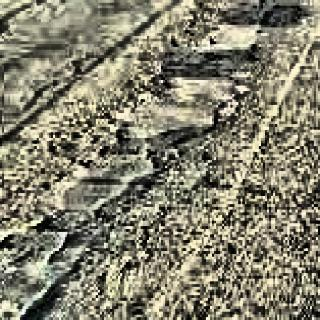pothole: (0, 171, 91, 320), (67, 121, 134, 242), (121, 93, 198, 194), (176, 0, 270, 80), (159, 41, 226, 136)
